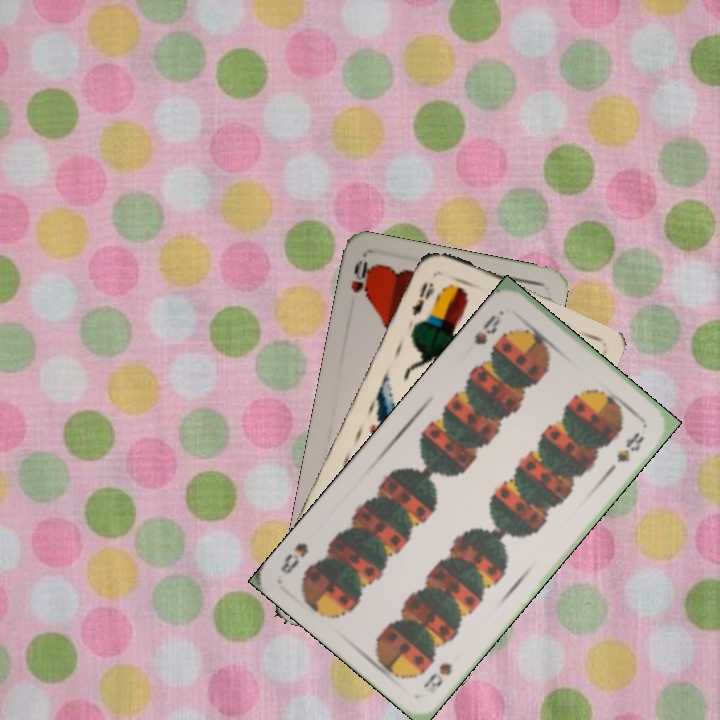EO: (407, 278, 437, 318)
HO: (346, 256, 375, 299)
S8: (470, 306, 507, 348), (419, 659, 455, 690)
